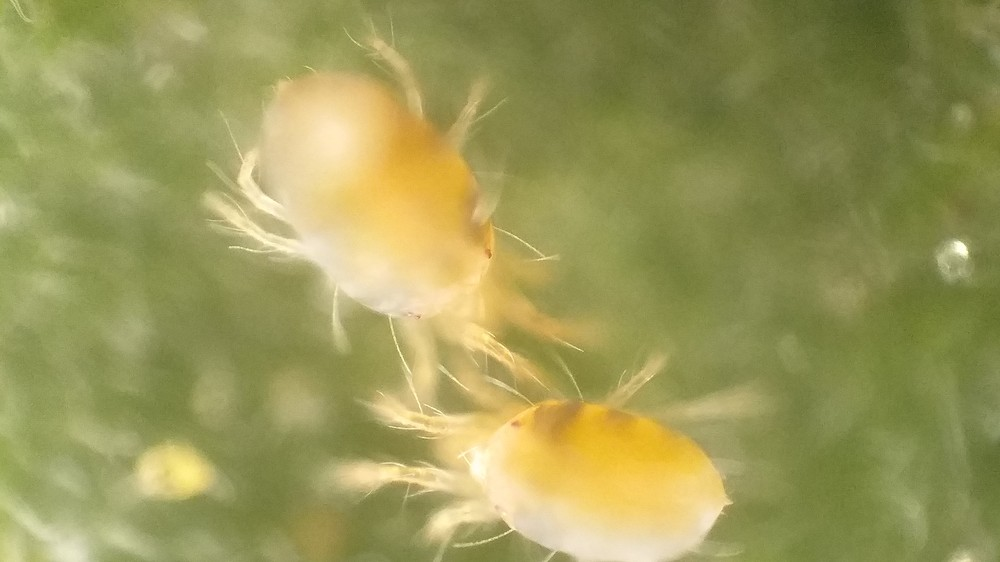Aracnido Rojo: (191, 29, 614, 390), (330, 372, 789, 562)
